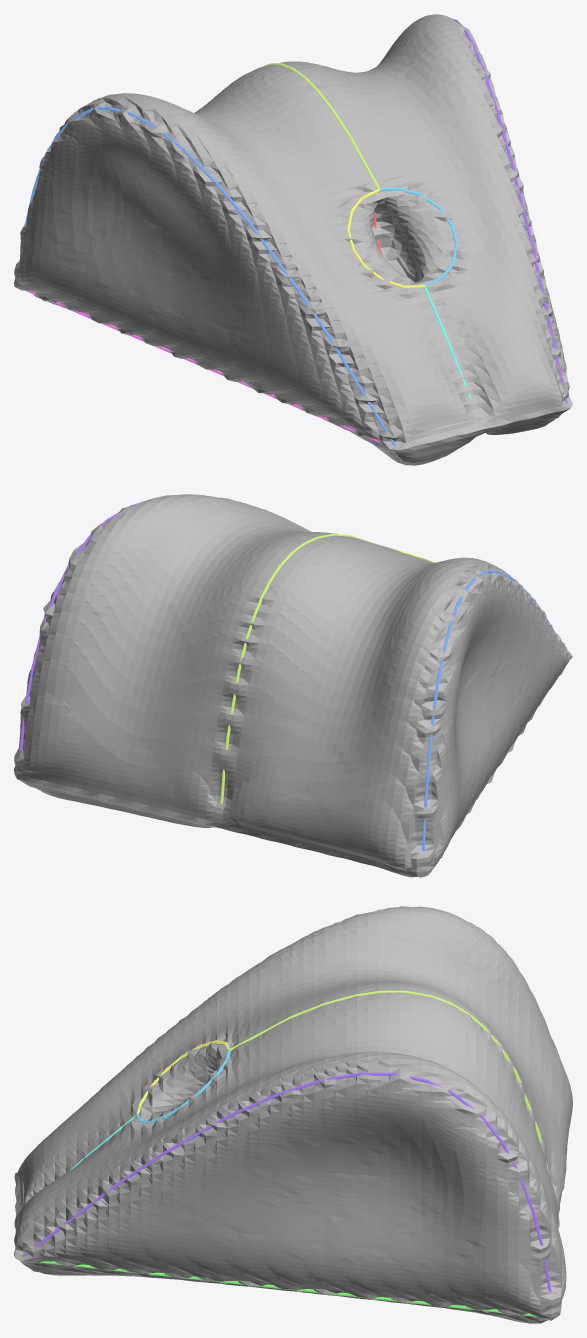
Rendered from onshape_simple_mouse.gltf.
3 views of the same model, one above another, from view 1: azimuth 30°, elevation 25°; view 2: azimuth 150°, elevation 25°; view 3: azimuth 270°, elevation 25° (orthographic).
Bounding box in the file's own units: 0.6571 × 0.3869 × 0.7388.
